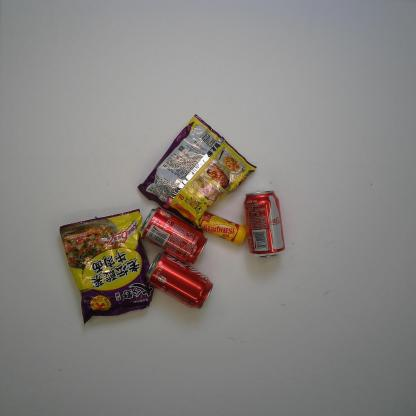Candy: (185, 208, 248, 247)
Drink: (143, 250, 216, 312), (133, 206, 209, 263), (241, 187, 287, 261)
Instant Noodles: (132, 112, 258, 234), (58, 209, 156, 327)
